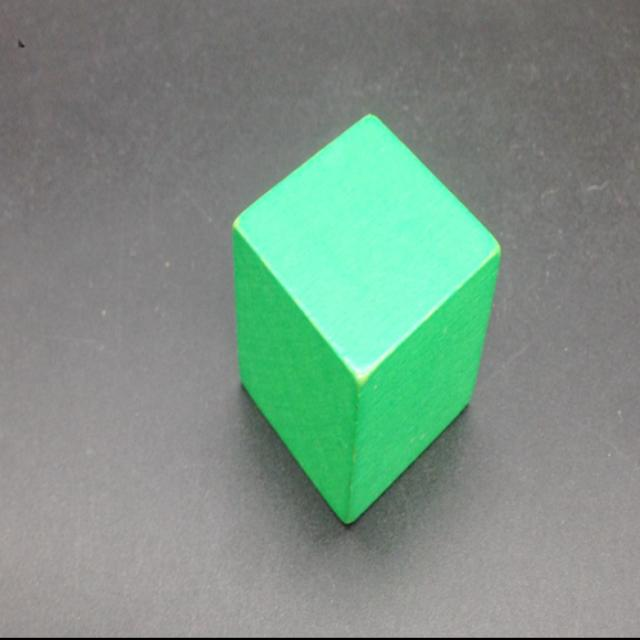green cube: (227, 109, 506, 531)
